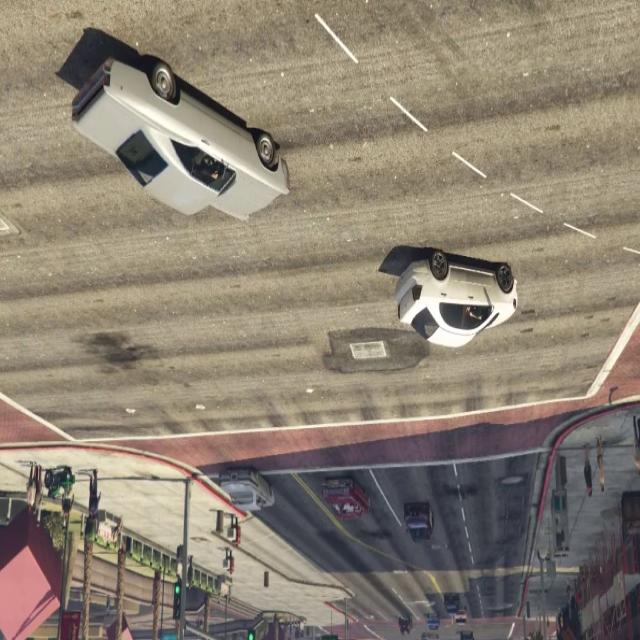Green-Signal: (170, 574, 184, 628), (318, 623, 341, 640), (243, 621, 260, 640)
